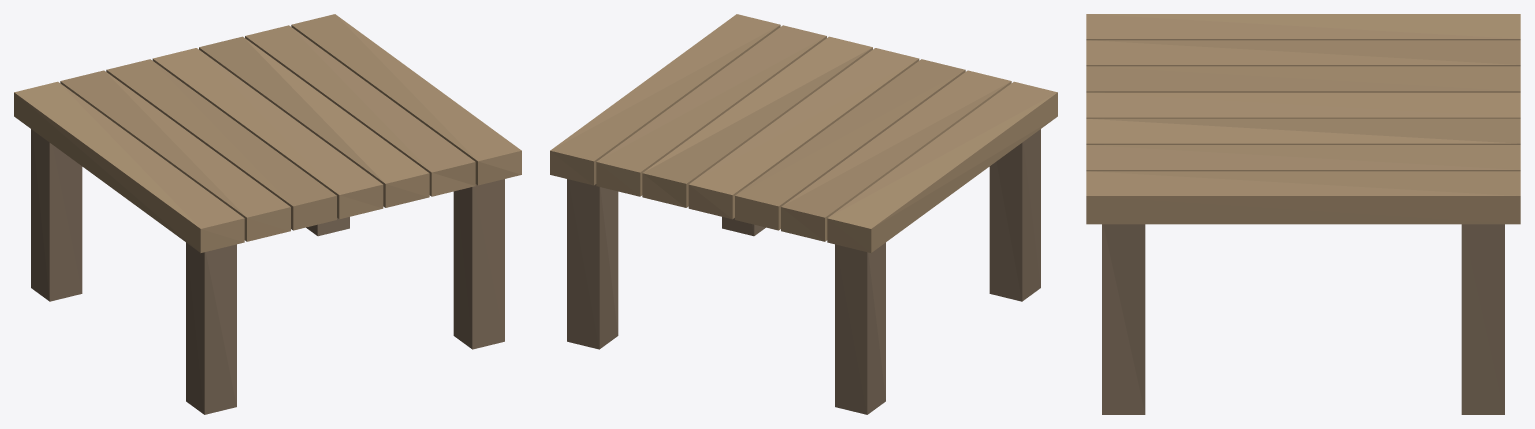
The model's file is dock_platform.glb.
3 renders of one model, left to right at view 1: azimuth 30°, elevation 25°; view 2: azimuth 150°, elevation 25°; view 3: azimuth 270°, elevation 25°, orthographic. The views are drawn at different scales.
Visible parts, largest first — view 1: plank_0, plank_1, plank_6, plank_3, plank_5, plank_4, plank_2, support_0.58_-0.58, support_-0.58_-0.58, support_-0.58_0.58, support_0.58_0.58; view 2: plank_0, plank_1, plank_6, plank_3, plank_5, plank_4, plank_2, support_0.58_0.58, support_-0.58_0.58, support_-0.58_-0.58, support_0.58_-0.58; view 3: plank_6, plank_0, plank_1, plank_2, plank_3, plank_4, plank_5, support_0.58_-0.58, support_0.58_0.58.
Part boxes in pixels (left/top/right/bottom): plank_0: left=14, top=81, right=244, bottom=252; plank_1: left=60, top=70, right=290, bottom=241; plank_6: left=291, top=14, right=521, bottom=185; plank_3: left=152, top=48, right=383, bottom=219; plank_5: left=245, top=25, right=475, bottom=196; plank_4: left=199, top=36, right=429, bottom=207; plank_2: left=106, top=59, right=336, bottom=230; support_0.58_-0.58: left=453, top=179, right=504, bottom=349; support_-0.58_-0.58: left=186, top=242, right=236, bottom=414; support_-0.58_0.58: left=31, top=129, right=82, bottom=301; support_0.58_0.58: left=306, top=217, right=349, bottom=236; plank_0: left=827, top=81, right=1057, bottom=252; plank_1: left=781, top=70, right=1011, bottom=241; plank_6: left=550, top=14, right=780, bottom=185; plank_3: left=688, top=48, right=919, bottom=219; plank_5: left=596, top=25, right=826, bottom=196; plank_4: left=642, top=36, right=872, bottom=207; plank_2: left=735, top=59, right=965, bottom=230; support_0.58_0.58: left=567, top=179, right=618, bottom=349; support_-0.58_0.58: left=835, top=242, right=885, bottom=414; support_-0.58_-0.58: left=989, top=129, right=1040, bottom=301; support_0.58_-0.58: left=722, top=217, right=765, bottom=236; plank_6: left=1086, top=171, right=1520, bottom=224; plank_0: left=1086, top=14, right=1520, bottom=40; plank_1: left=1086, top=40, right=1520, bottom=66; plank_2: left=1086, top=66, right=1520, bottom=92; plank_3: left=1086, top=92, right=1520, bottom=118; plank_4: left=1086, top=118, right=1520, bottom=144; plank_5: left=1086, top=145, right=1520, bottom=171; support_0.58_-0.58: left=1102, top=224, right=1145, bottom=414; support_0.58_0.58: left=1461, top=224, right=1504, bottom=414.
Size of the model in its own units: 1.39 by 0.8 by 1.4.
